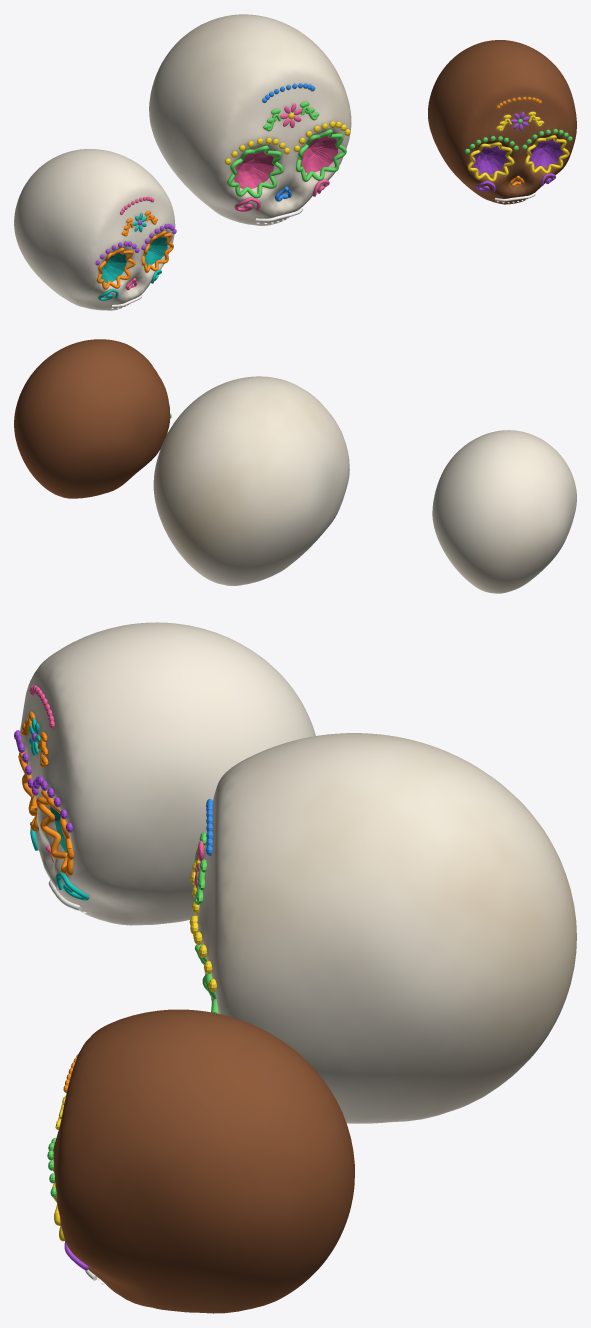
The model's file is w6_calavera_azucar_trio.glb.
3 views of the same model, one above another, from view 1: azimuth 30°, elevation 25°; view 2: azimuth 150°, elevation 25°; view 3: azimuth 270°, elevation 25° (orthographic). The views are drawn at different scales.
Visible parts, largest first — view 1: w6_calavera_azucar_trio; view 2: w6_calavera_azucar_trio; view 3: w6_calavera_azucar_trio.
Boxes of the visible parts, <box> form: w6_calavera_azucar_trio: <box>14,14,576,310</box>; w6_calavera_azucar_trio: <box>14,339,576,593</box>; w6_calavera_azucar_trio: <box>14,622,576,1313</box>.
Size of the model in its own units: 0.3541 by 0.1142 by 0.166.
1 material, 1 textured.
